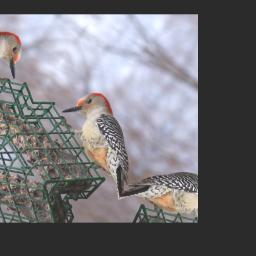Woodpecker: (42, 81, 163, 196)
